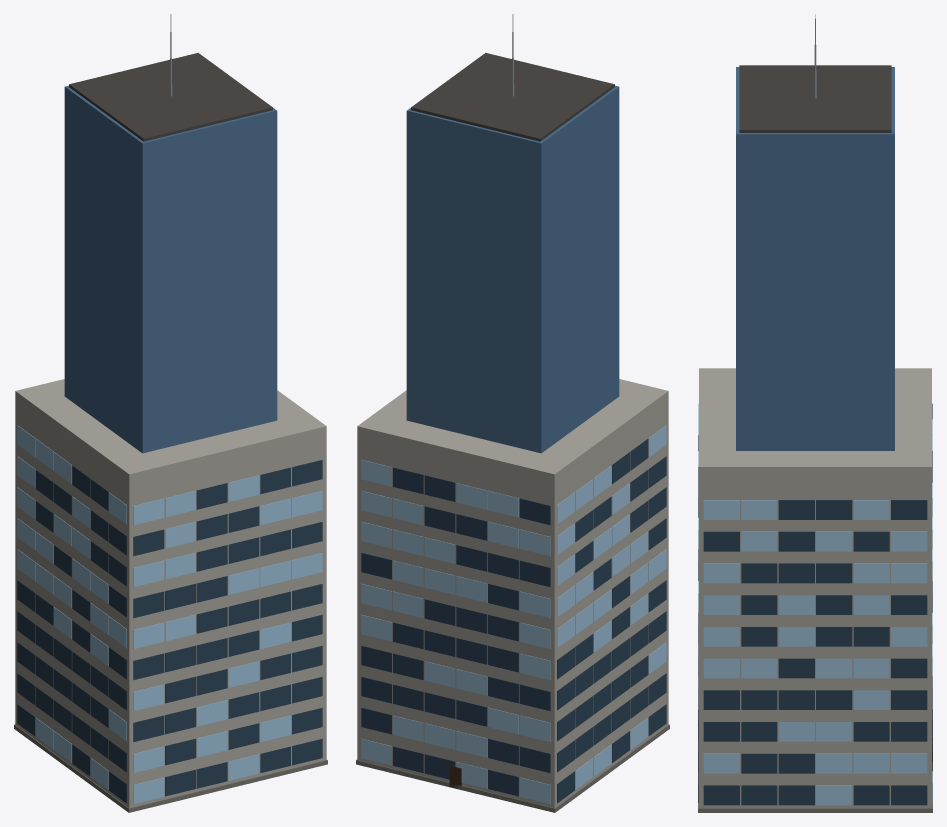
The model's file is bld_office_d.glb.
The picture shows the model from 3 angles, left to right: view 1: azimuth 30°, elevation 25°; view 2: azimuth 150°, elevation 25°; view 3: azimuth 270°, elevation 25°; orthographic projection. The views are drawn at different scales.
Parts seen in each view (by area): view 1: bld_office_d__mesh; view 2: bld_office_d__mesh; view 3: bld_office_d__mesh.
Part boxes in pixels (x1,y1,x2,y2): bld_office_d__mesh: [14, 14, 327, 812]; bld_office_d__mesh: [356, 14, 669, 812]; bld_office_d__mesh: [698, 14, 932, 812].
Size of the model in its own units: 22.16 by 78 by 22.16.
